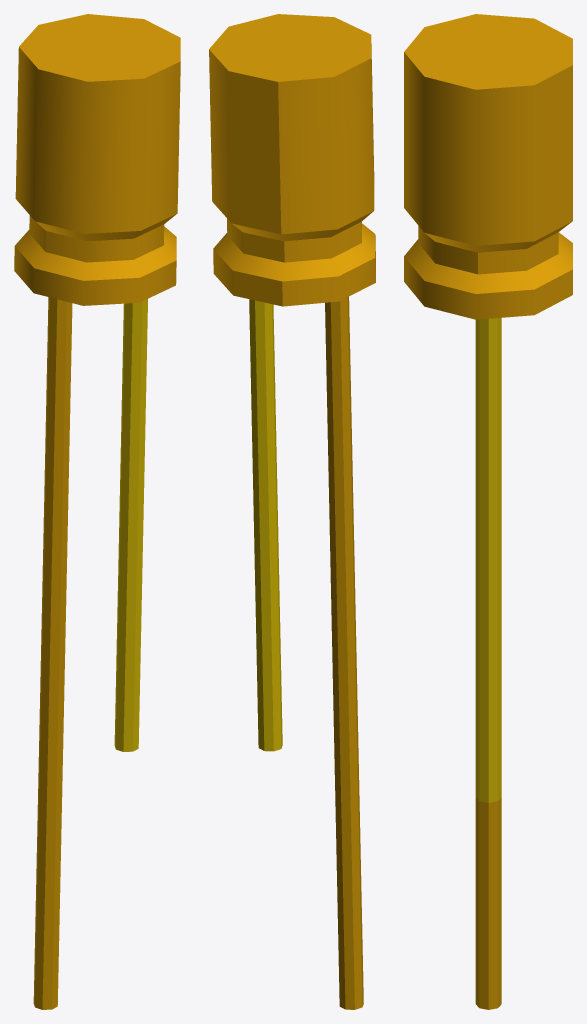
File: capacitor.fbx
The picture shows the model from 3 angles, left to right: view 1: azimuth 30°, elevation 25°; view 2: azimuth 150°, elevation 25°; view 3: azimuth 270°, elevation 25°; orthographic projection. The views are drawn at different scales.
Parts seen in each view (by area): view 1: Capacitor_2, Terminals; view 2: Capacitor_2, Terminals; view 3: Capacitor_2, Terminals.
Part boxes in pixels (x1=…): Capacitor_2: x1=14, y1=14, x2=180, y2=305; Terminals: x1=33, y1=297, x2=147, y2=1009; Capacitor_2: x1=209, y1=14, x2=375, y2=306; Terminals: x1=249, y1=296, x2=363, y2=1009; Capacitor_2: x1=404, y1=14, x2=572, y2=319; Terminals: x1=475, y1=318, x2=501, y2=1009.
Bounding box in the file's own units: 3.71 × 22.74 × 3.54.
